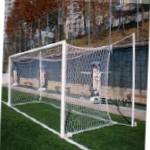goals: (7, 38, 117, 137)
